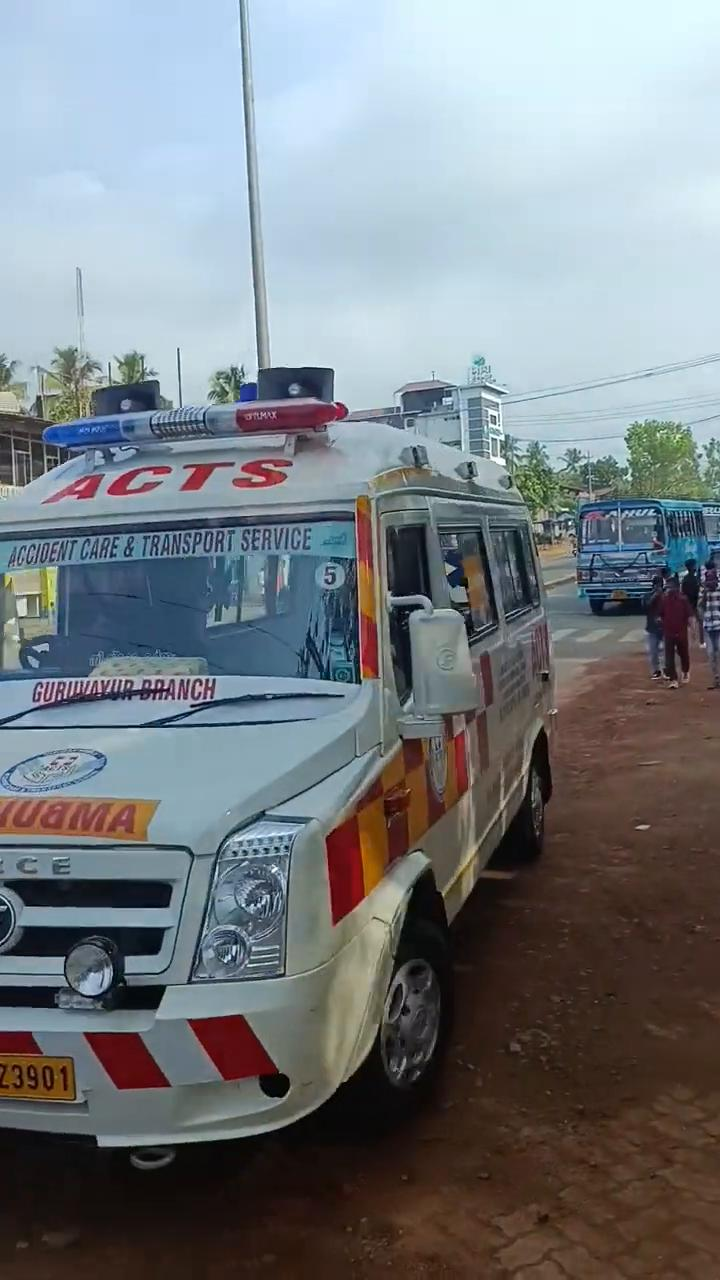AMBULANCE: (0, 352, 572, 1210)
